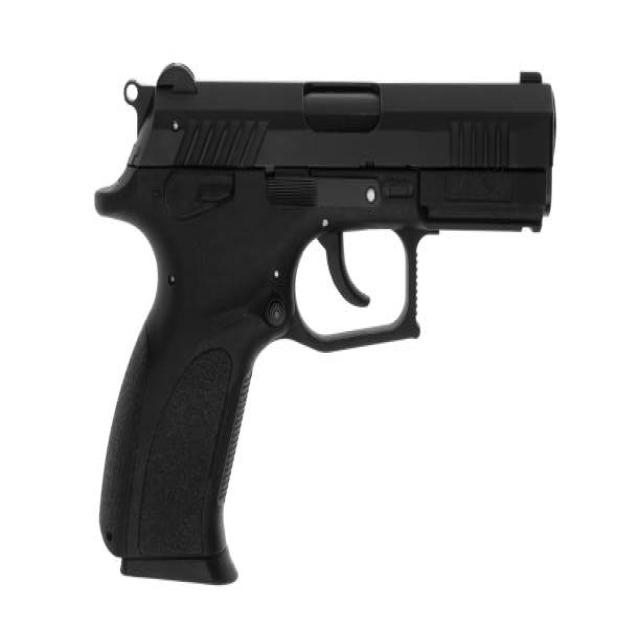pistol: (85, 54, 573, 589)
